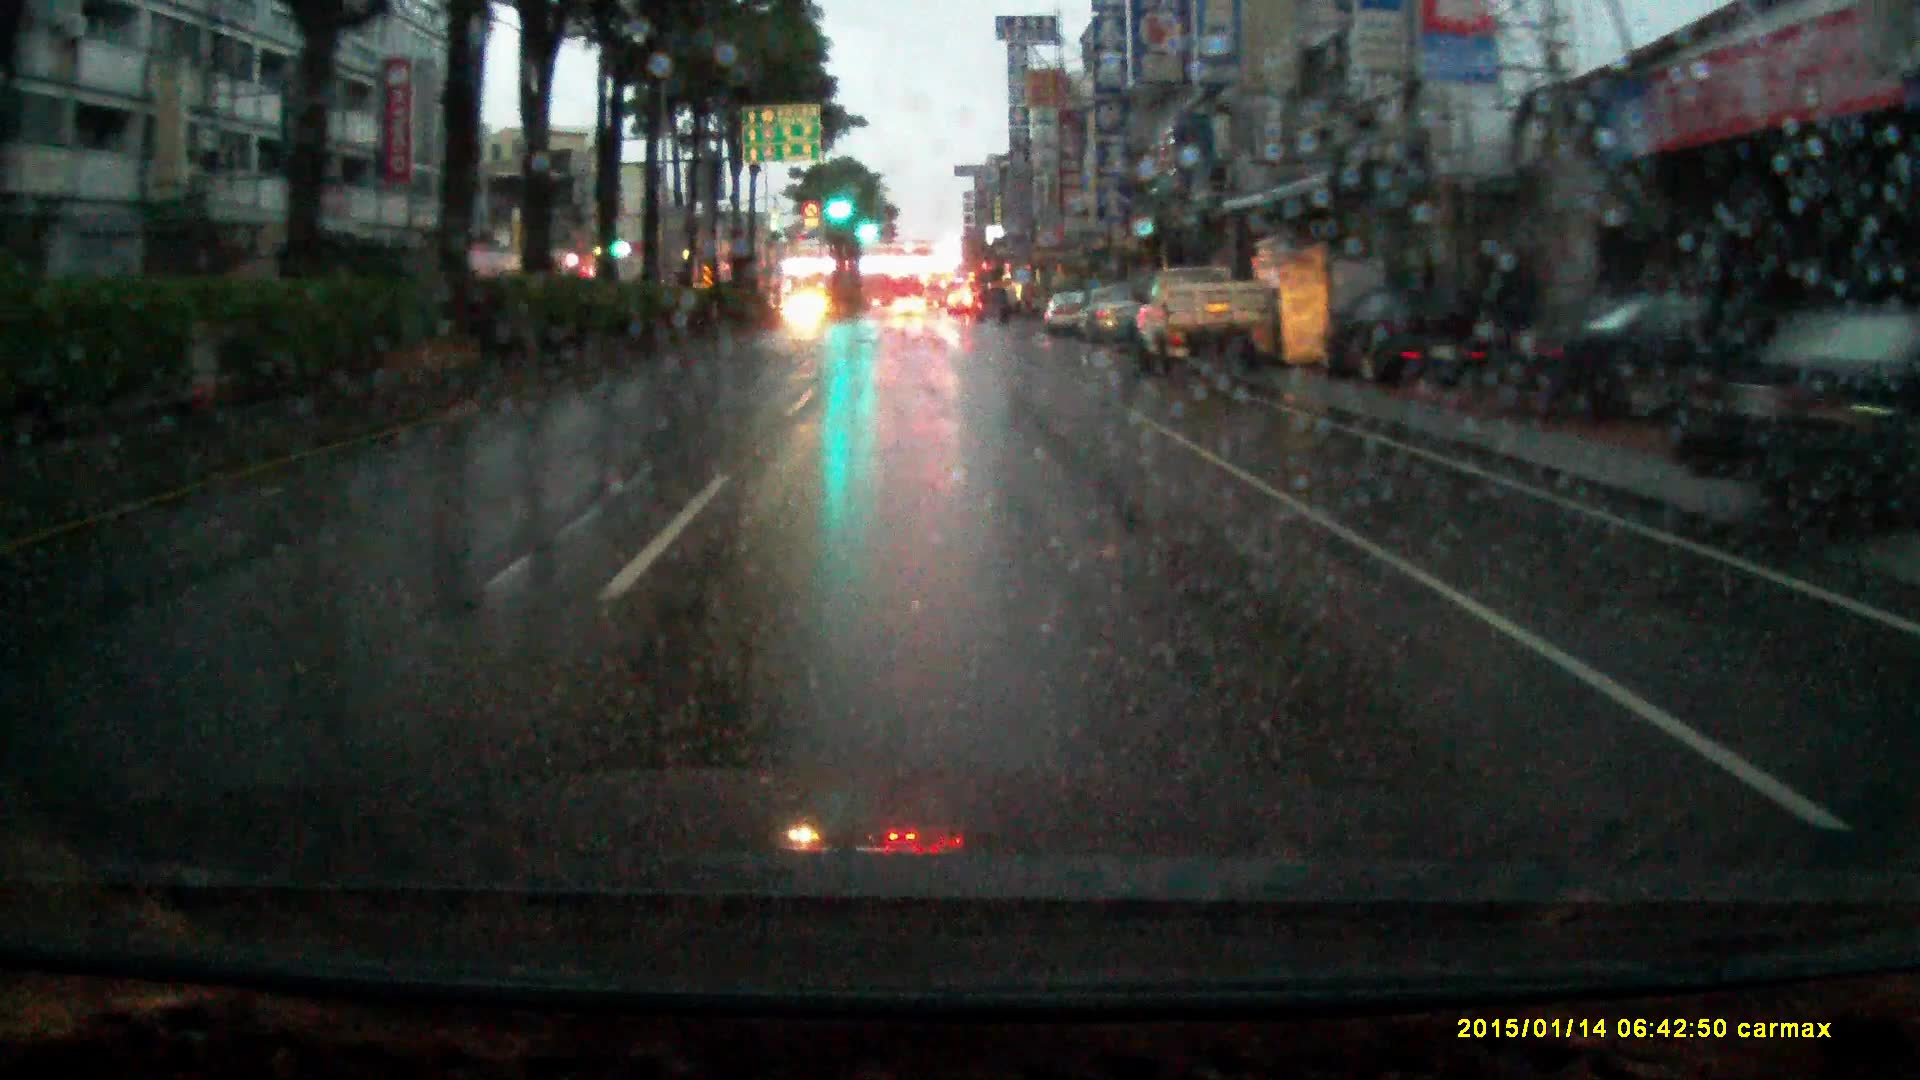vehicle: (1668, 298, 1920, 542), (1513, 298, 1866, 429), (1133, 266, 1275, 385), (1331, 289, 1491, 389), (1076, 287, 1139, 347), (1043, 291, 1089, 338), (785, 289, 829, 331), (975, 287, 1011, 324), (893, 295, 927, 320), (926, 274, 947, 313), (948, 291, 973, 316)
